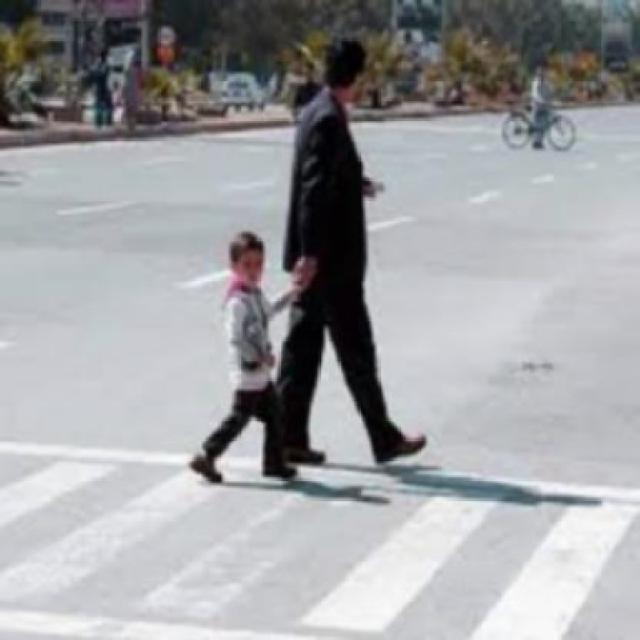Person: (284, 34, 428, 466), (183, 229, 308, 483)
